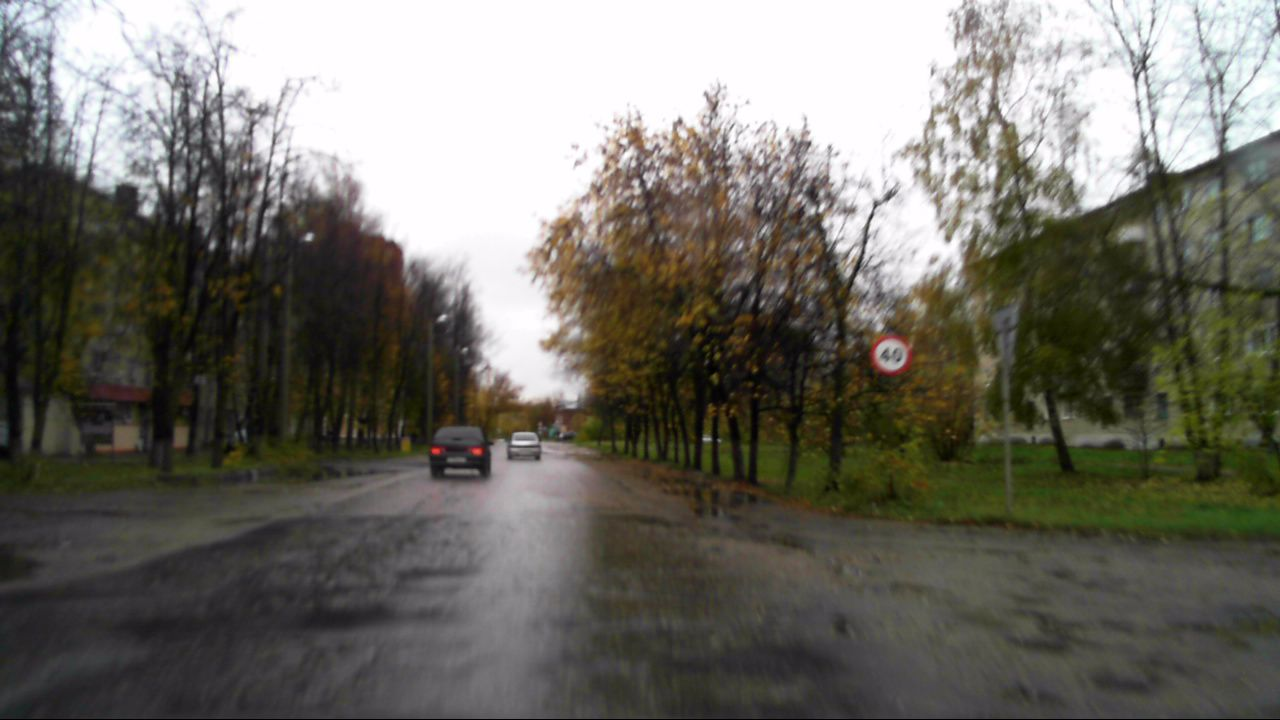speed_warning_40: (872, 336, 910, 375)
